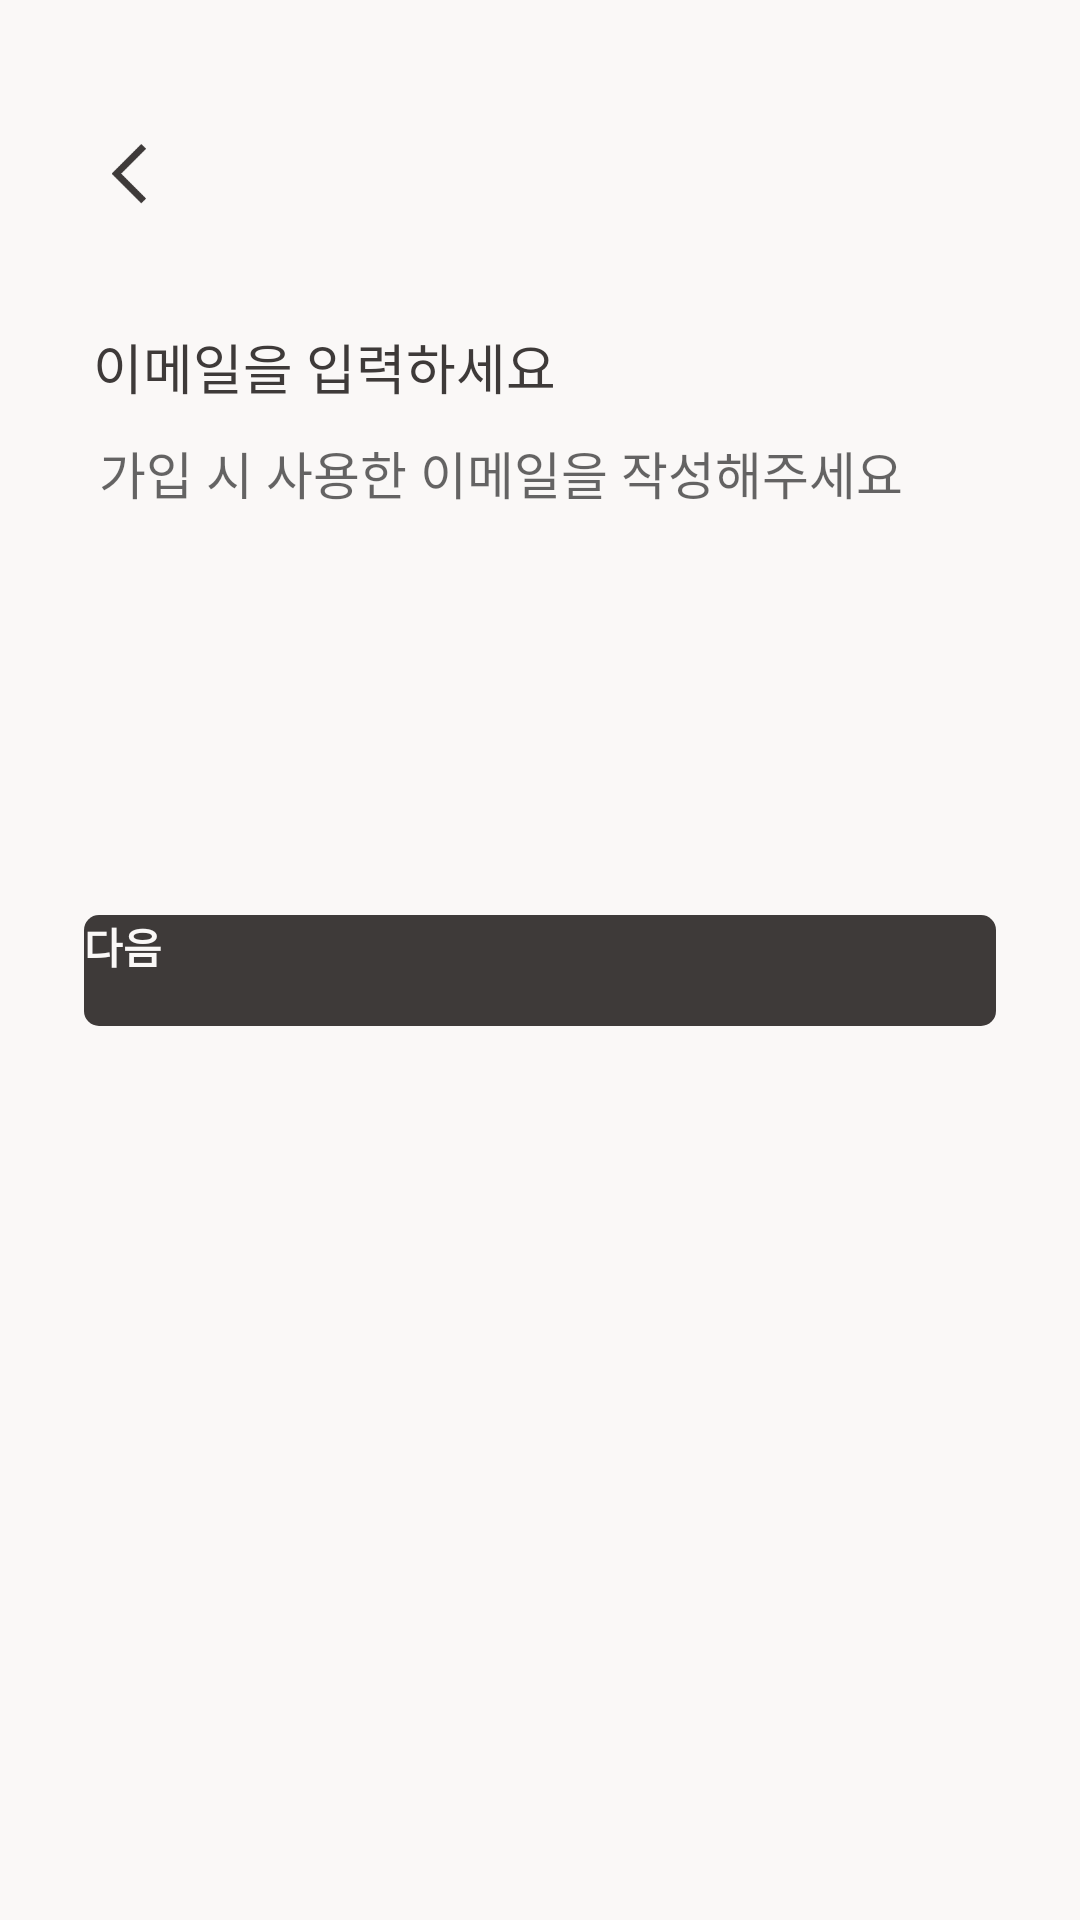

Point at icon controls on the screen. Image size 1080*1920, points as (x,y).
back: (129,174)
